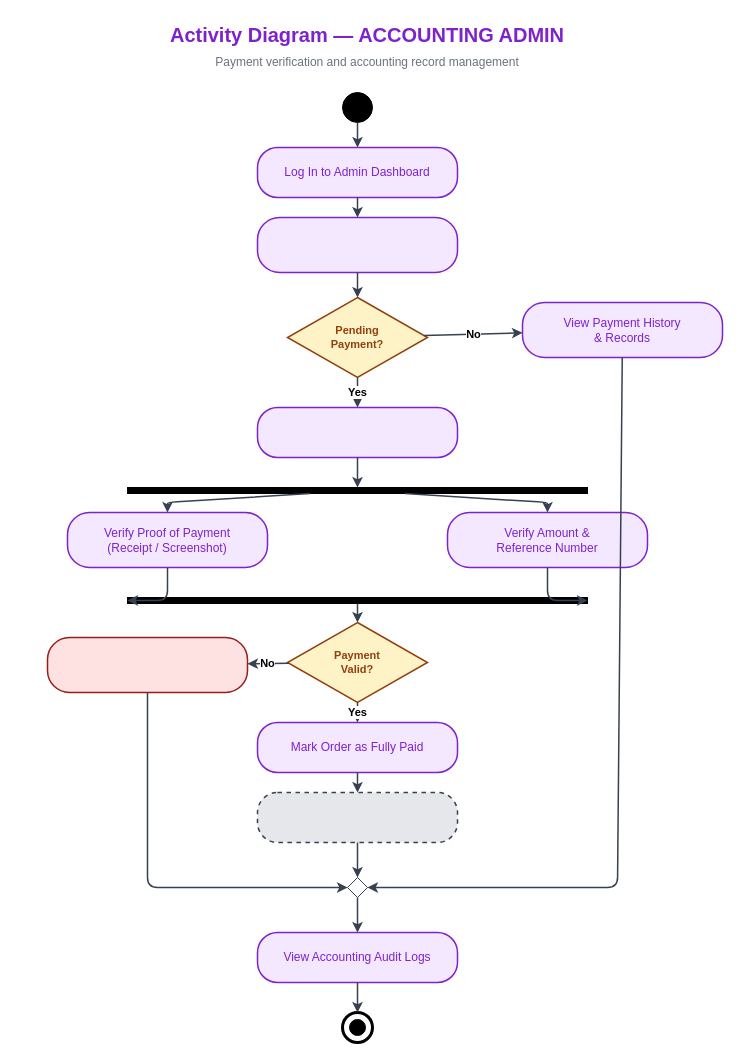
Image size: 740x1061. Some labels were removed from this diagram. Here are the shapes that lost their labels. From the top down, the centre of each, then its label:
pixel 357 244: View Orders Pending Payment Confirmation
pixel 357 432: Open Payment Submission
pixel 147 664: Reject Payment & Notify Customer
pixel 357 817: Forward Order to Inventory
